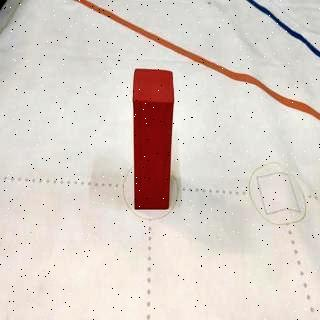redbox: (132, 66, 174, 210)
